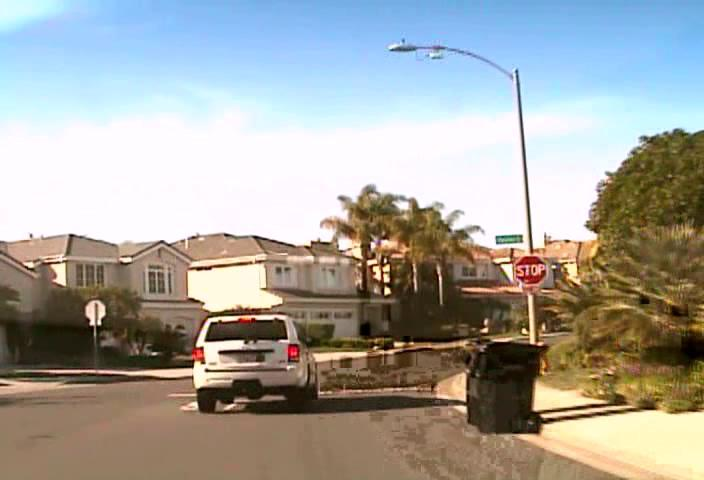stop: (513, 254, 547, 285)
